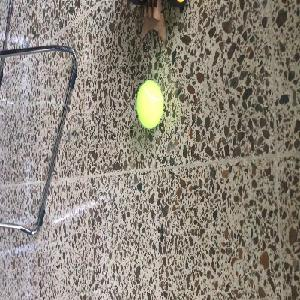Ball: (136, 80, 163, 129)
Robot: (128, 2, 183, 42)
